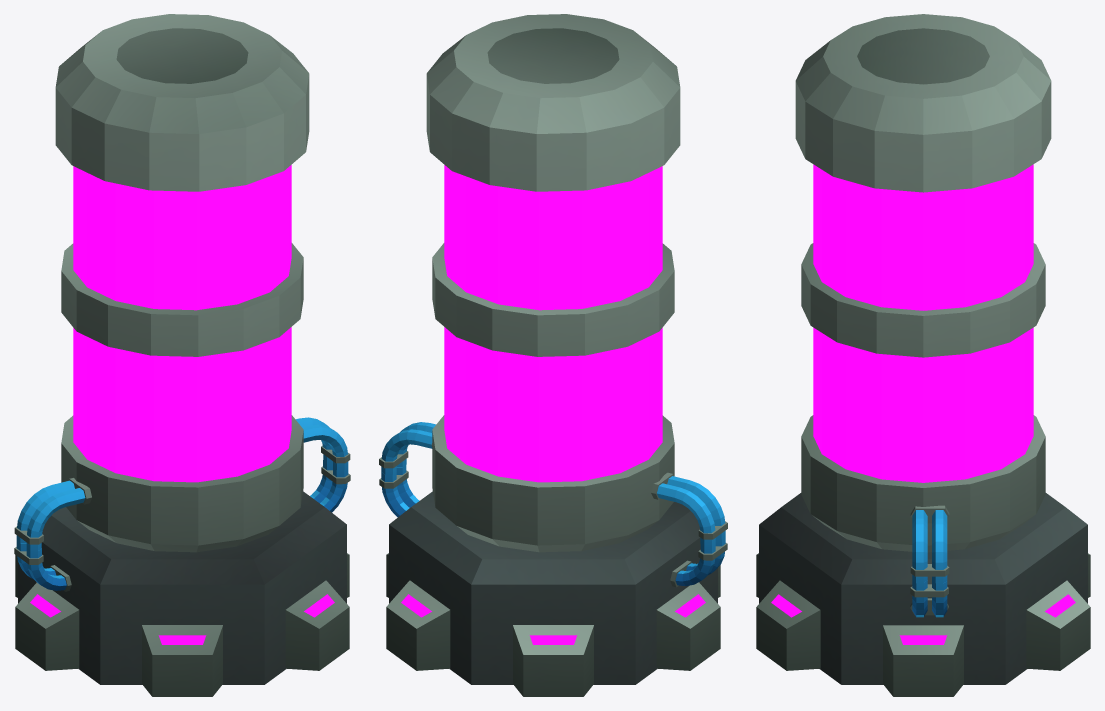
3 views of the same model, side by side, from view 1: azimuth 30°, elevation 25°; view 2: azimuth 150°, elevation 25°; view 3: azimuth 270°, elevation 25° (orthographic).
Visible parts, largest first — view 1: object.008; view 2: object.008; view 3: object.008.
Boxes of the visible parts, <box> form: object.008: <box>14,14,350,696</box>; object.008: <box>379,14,727,696</box>; object.008: <box>756,14,1090,696</box>.
Bounding box in the file's own units: 206 × 343 × 183.
